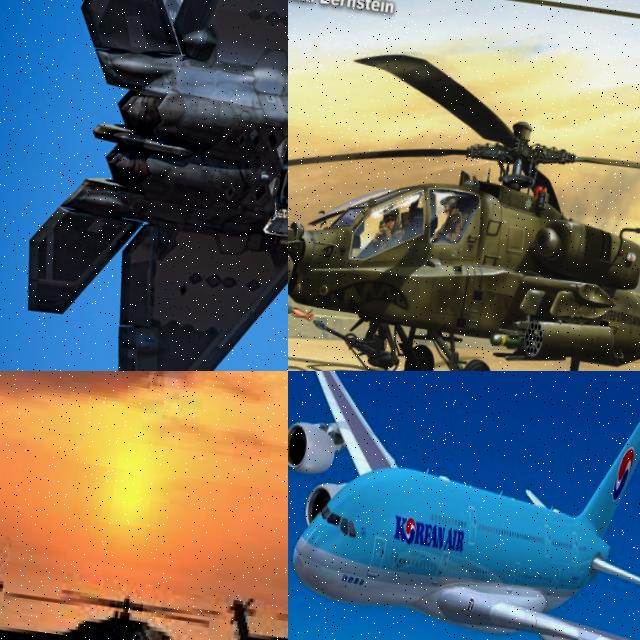A380: (288, 371, 640, 640)
Apache: (288, 37, 640, 371), (0, 540, 221, 640), (221, 582, 288, 640)
F22: (14, 0, 288, 371)
